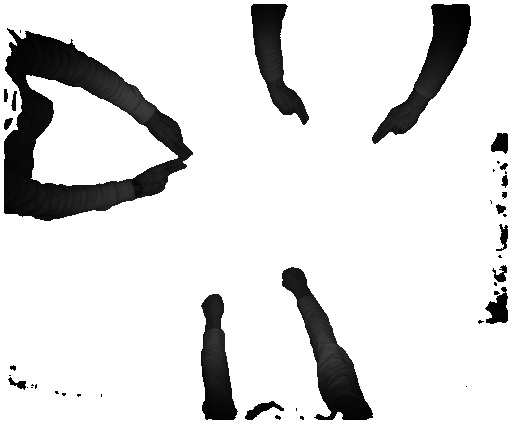fist: (280, 264, 311, 293), (200, 288, 223, 326)
hand: (149, 115, 195, 161), (136, 160, 190, 199), (368, 104, 421, 143), (270, 81, 311, 127)
